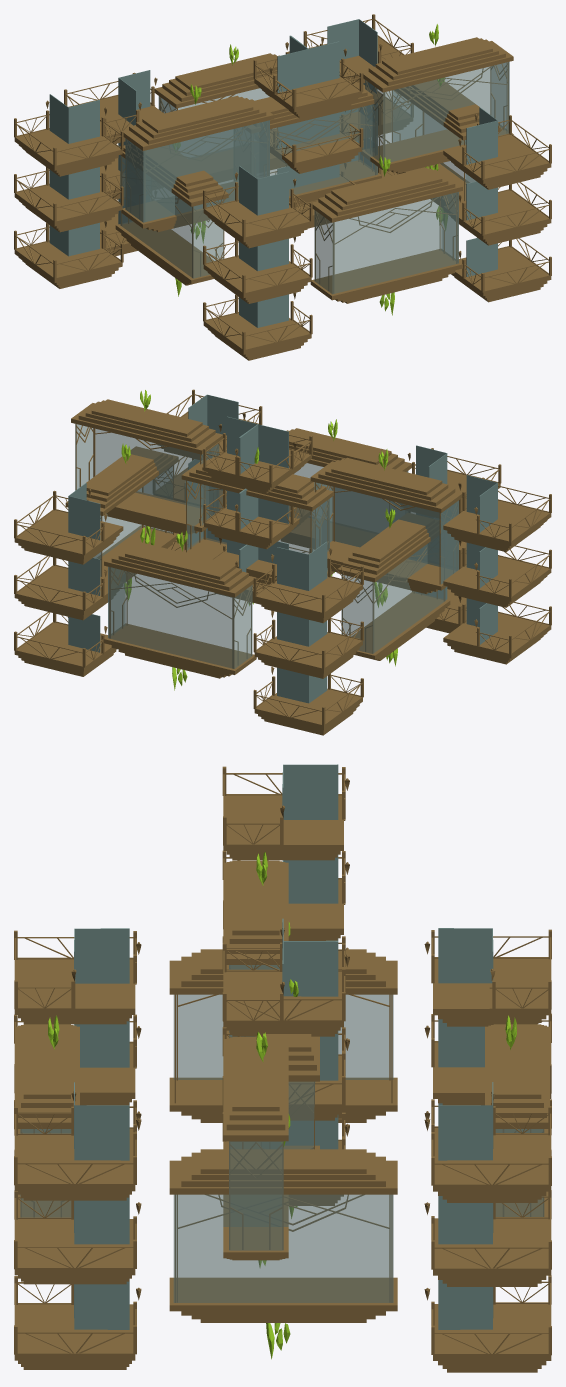
File: Three.fbx
The picture shows the model from 3 angles, top to bottom: view 1: azimuth 30°, elevation 25°; view 2: azimuth 150°, elevation 25°; view 3: azimuth 270°, elevation 25°; orthographic projection. The views are drawn at different scales.
Visible parts, largest first — view 1: Three_Whole, Three_Full, Three_Right, Three_Left, Three_Middle; view 2: Three_Whole, Three_Full, Three_Right, Three_Middle, Three_Left; view 3: Three_Whole, Three_Full, Three_Right, Three_Middle.
Part boxes in pixels (box(x1,y1,x2,y2)): Three_Whole: box(64, 14, 551, 360); Three_Full: box(14, 35, 362, 288); Three_Right: box(253, 24, 513, 228); Three_Left: box(125, 120, 269, 222); Three_Middle: box(234, 79, 381, 206); Three_Whole: box(14, 389, 501, 735); Three_Full: box(203, 419, 551, 664); Three_Right: box(71, 390, 311, 598); Three_Middle: box(181, 447, 333, 605); Three_Left: box(314, 483, 458, 583); Three_Whole: box(14, 922, 551, 1372); Three_Full: box(222, 764, 349, 1205); Three_Right: box(222, 940, 349, 1267); Three_Middle: box(255, 979, 319, 1218).
Size of the model in its own units: 4118 by 1827 by 2772.
